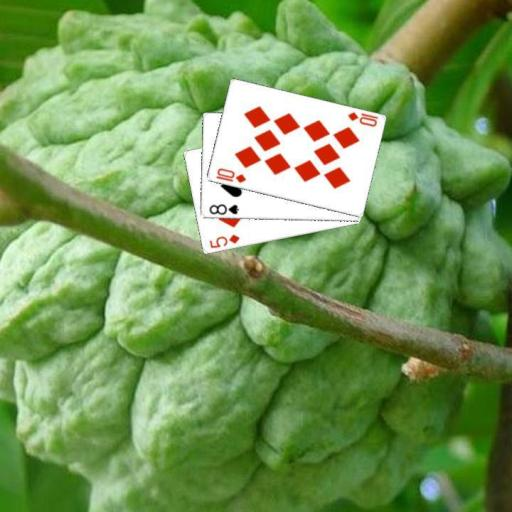card-corner: (344, 109, 379, 129), (212, 165, 248, 184), (206, 231, 241, 250), (206, 201, 240, 216)
